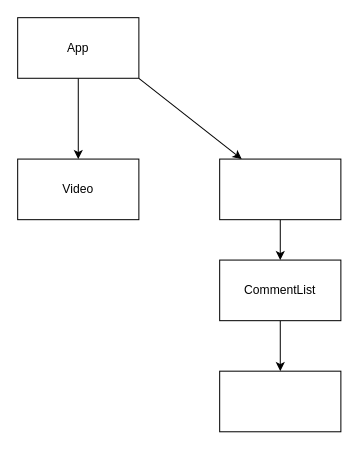
Some shapes in this 359 by 449 pixel diagram are drawn without their labels. The shapes that lost their labels are listed below. From the top down, each one's centre as x and y in pixels, then its label:
pixel 280 189: VideoDetails
pixel 280 401: Comment
